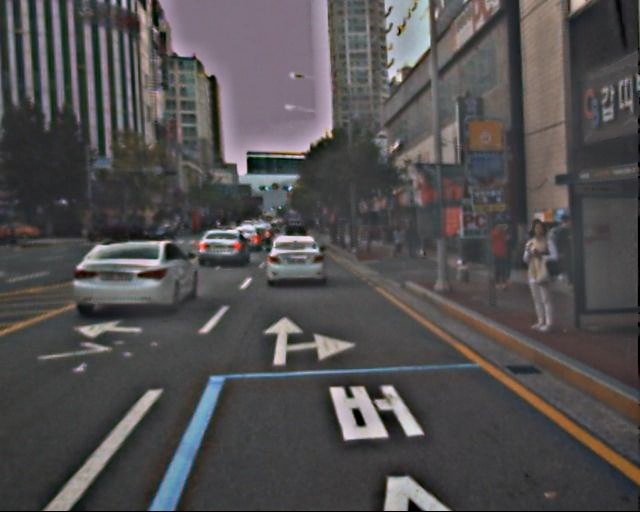person: (512, 220, 558, 333), (484, 219, 514, 291), (403, 219, 420, 261), (390, 225, 403, 257)
